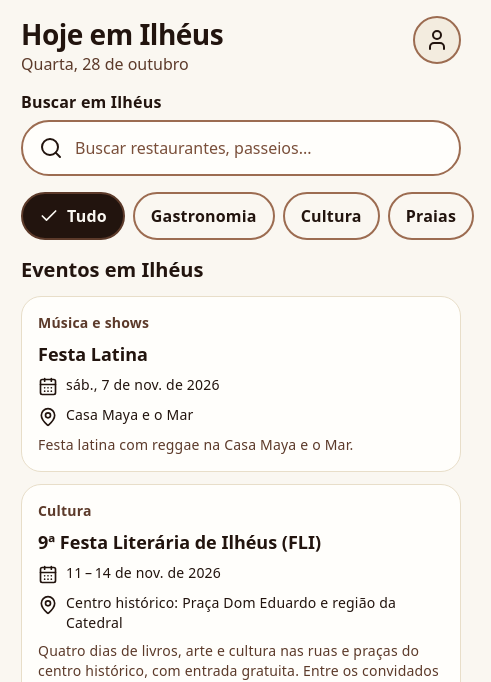
Test case: HomeScreen › events section › stays out of the way while filtering or searching
Click the button "Cultura": [331, 216] box [283, 192, 380, 240]
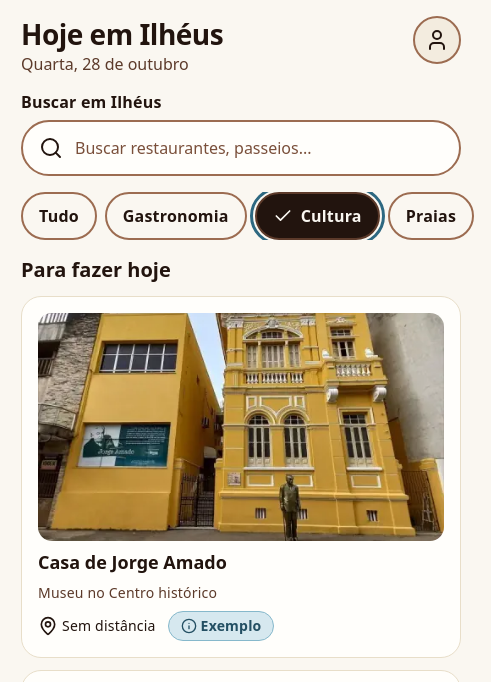
Now the heading "Eventos em Ilhéus" is gone
Click the button "Tudo": [59, 216] box [21, 192, 97, 240]
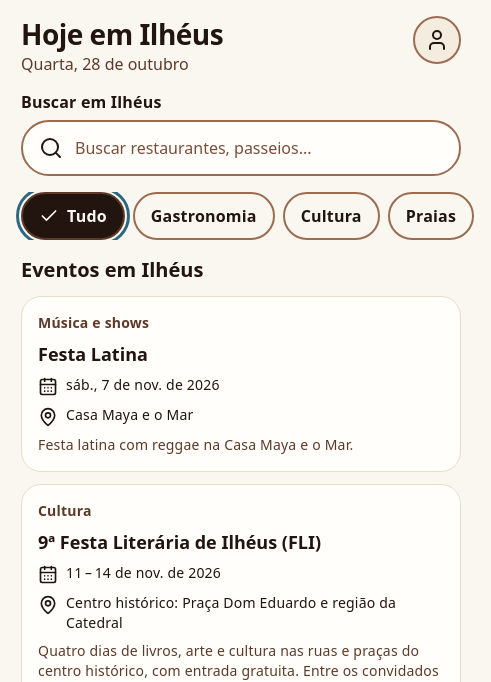
In the search field labelled "Buscar em Ilhéus": [259, 148] box [75, 136, 443, 160], type "jorge"
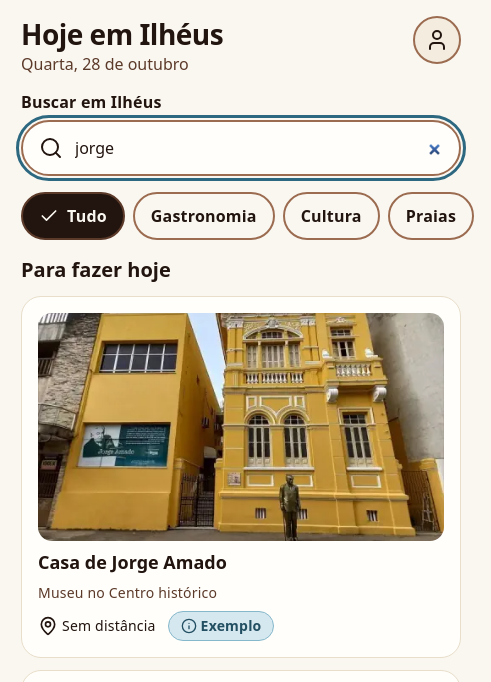
Now the heading "Eventos em Ilhéus" is gone
